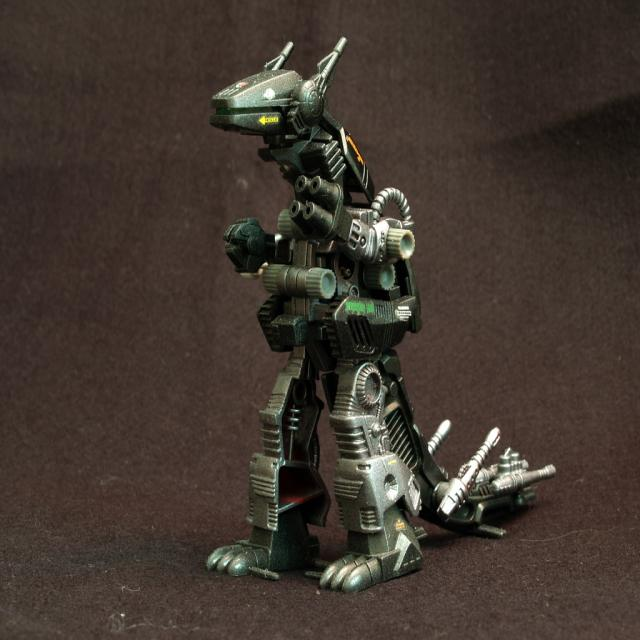Toy: (209, 34, 556, 594)
